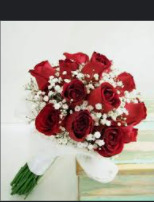RedRose: (99, 121, 135, 155), (33, 99, 62, 137), (63, 110, 97, 141), (93, 78, 122, 111), (83, 52, 116, 79), (28, 57, 56, 87), (61, 79, 88, 109), (125, 96, 149, 126), (58, 50, 80, 79), (118, 67, 138, 95)
